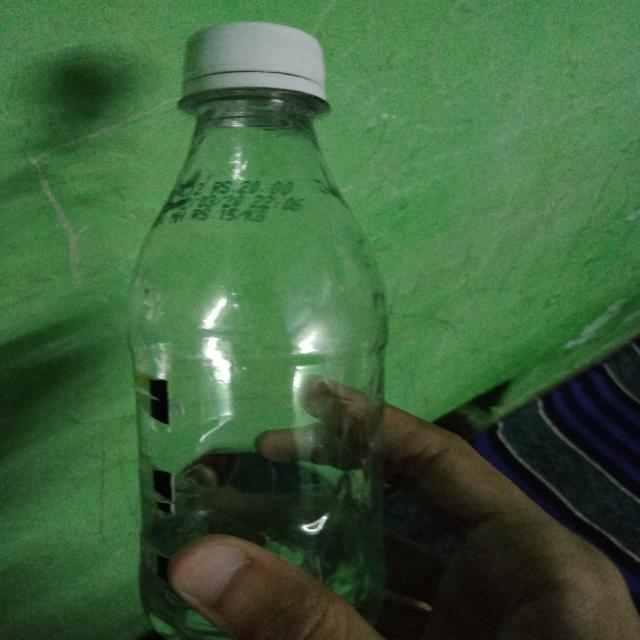Dry: (124, 19, 388, 640)
